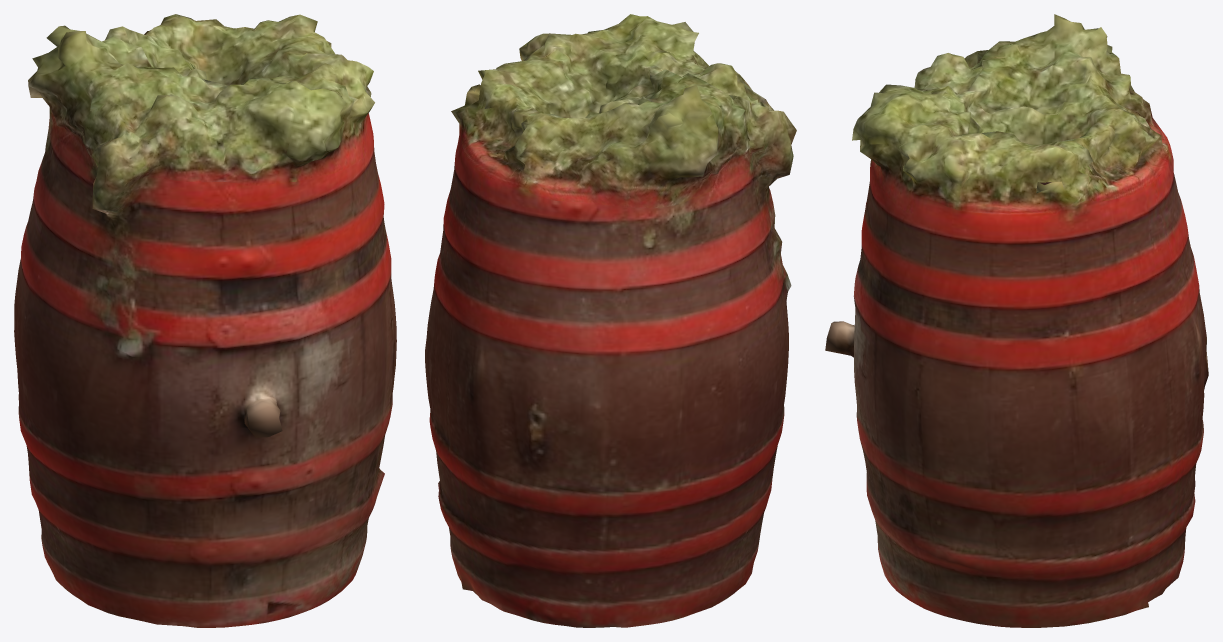
The model's file is barrel_planter_6d6628e8.fbx.
3 views of the same model, side by side, from view 1: azimuth 30°, elevation 25°; view 2: azimuth 150°, elevation 25°; view 3: azimuth 270°, elevation 25° (orthographic). The views are drawn at different scales.
Visible parts, largest first — view 1: barrel_planter_6d6628e8; view 2: barrel_planter_6d6628e8; view 3: barrel_planter_6d6628e8.
Boxes of the visible parts, bbox=[...] form: barrel_planter_6d6628e8: bbox=[14, 14, 396, 627]; barrel_planter_6d6628e8: bbox=[425, 14, 796, 627]; barrel_planter_6d6628e8: bbox=[825, 14, 1208, 627].
Size of the model in its own units: 0.4538 by 0.7096 by 0.4883.
1 material, 1 textured.
